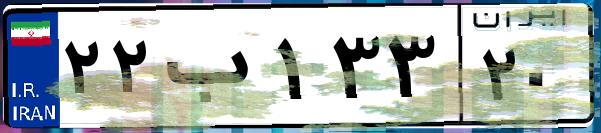0: (525, 38, 570, 115)
1: (270, 28, 330, 110)
2: (57, 26, 110, 100), (475, 38, 525, 113), (110, 28, 158, 98)
3: (385, 28, 445, 110), (330, 28, 385, 110)
ب: (158, 20, 270, 120)
